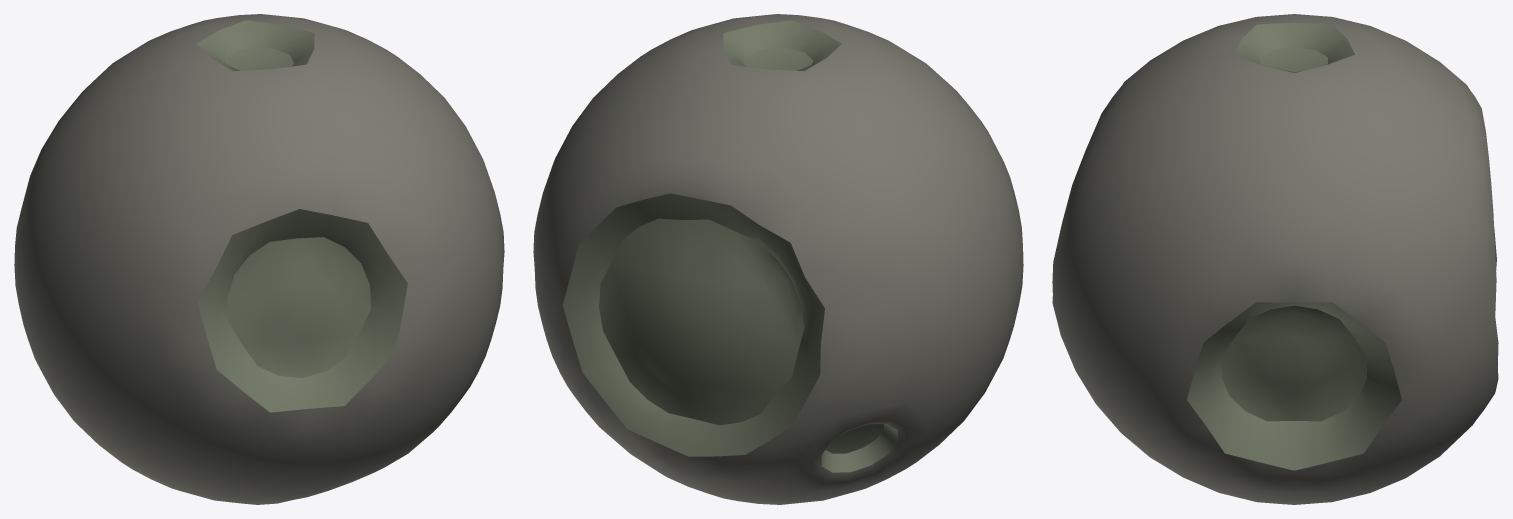
The model's file is quaternius-ultimate-space-pack-planet-3-transformed.glb.
3 views of the same model, side by side, from view 1: azimuth 30°, elevation 25°; view 2: azimuth 150°, elevation 25°; view 3: azimuth 270°, elevation 25° (orthographic).
Visible parts, largest first — view 1: Planet_3; view 2: Planet_3; view 3: Planet_3.
Part boxes in pixels (x1,y1,x2,y2): Planet_3: (14, 14, 504, 504); Planet_3: (533, 14, 1023, 504); Planet_3: (1052, 14, 1498, 504).
Size of the model in its own units: 3.63 by 3.65 by 3.38.
1 material, 1 textured.
